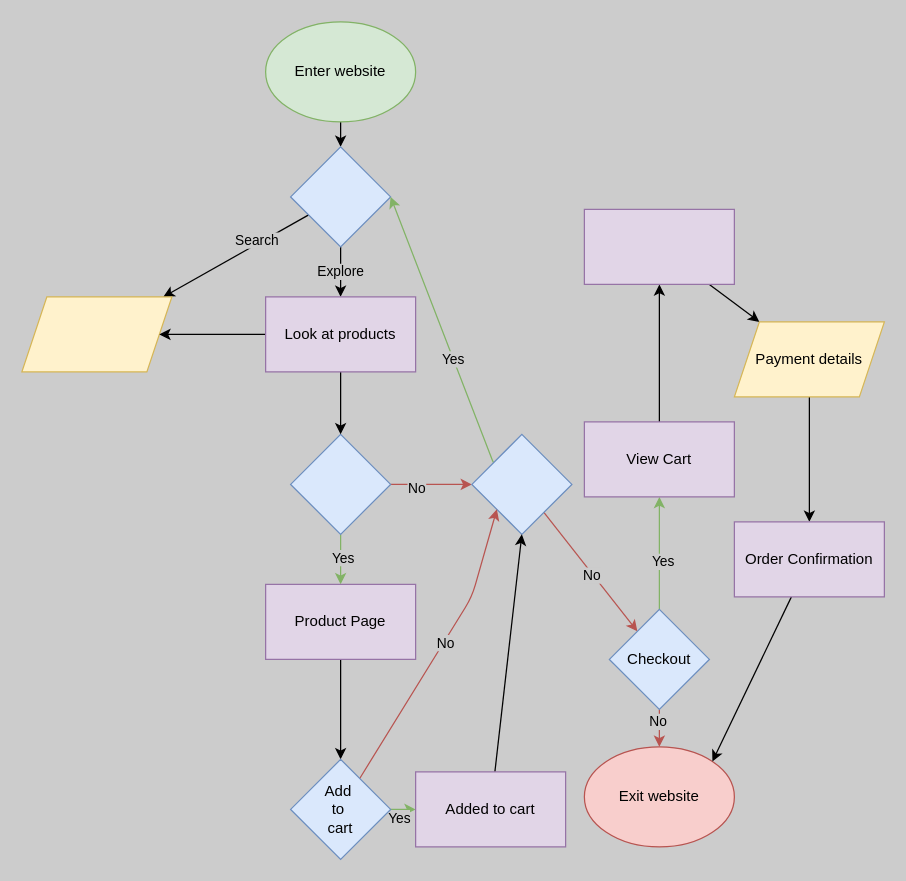
The diagram is 906 pixels wide and 881 high, and some of its shapes have lost their labels. The shapes that lost their labels are listed below. From the top down, each one's centre as x and y in pixels, then its label:
At pixel 340 196: "Search or explore".
At pixel 658 246: "View Payment".
At pixel 96 334: "Search details".
At pixel 340 483: "View specific product".
At pixel 521 483: "Continue Shopping".
